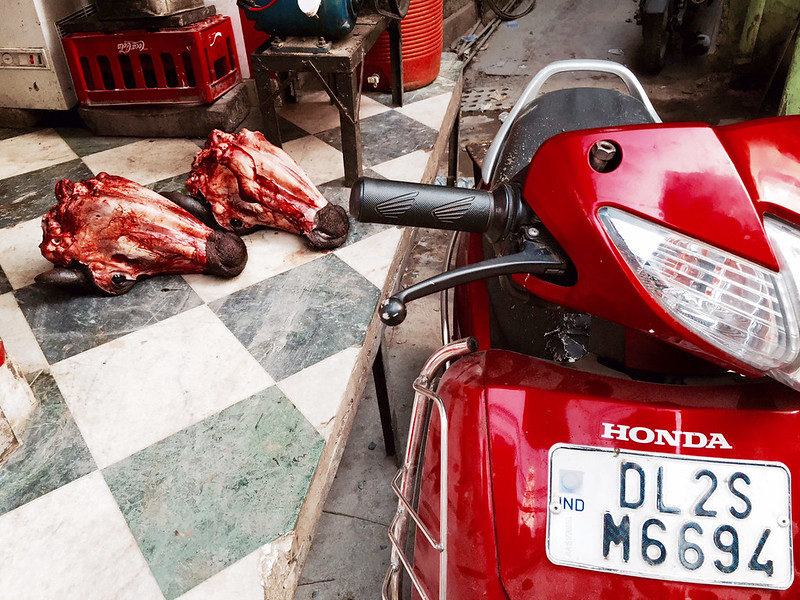doublelinenumberplate: (545, 437, 796, 592)
